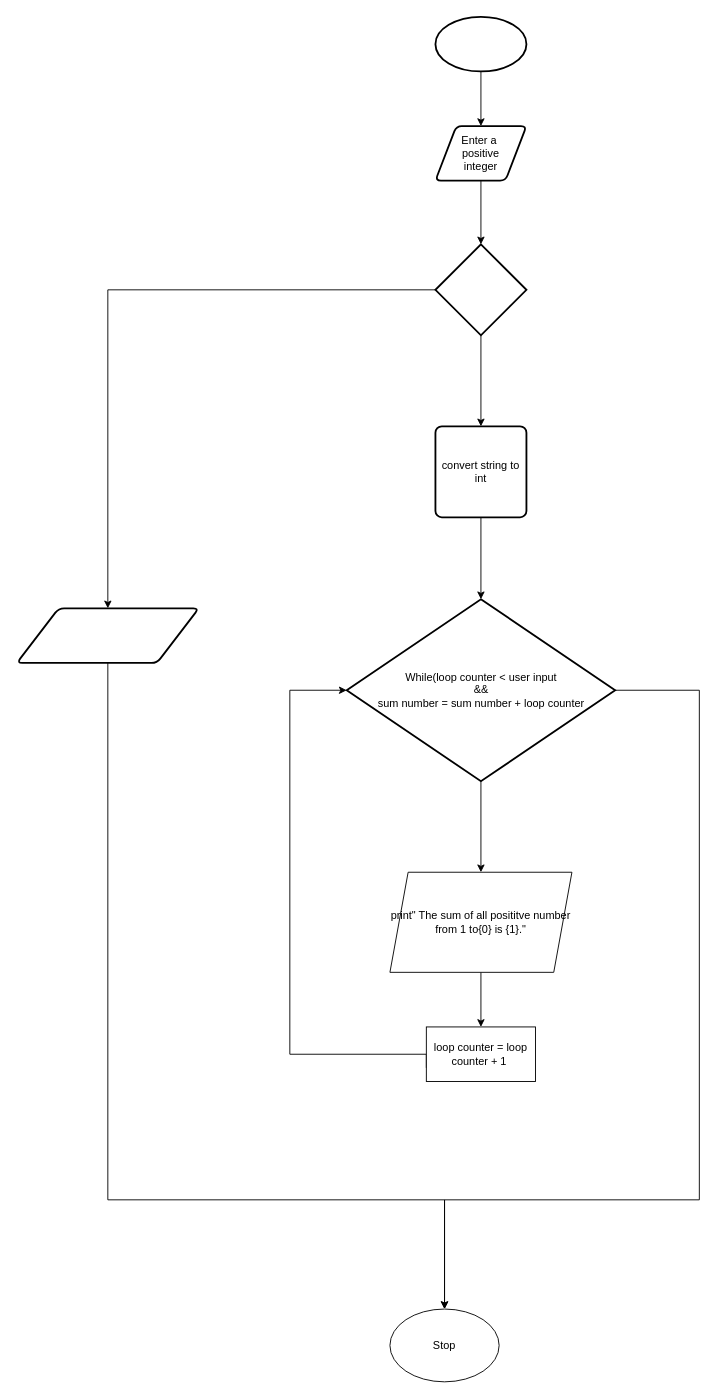
Image size: 723x1398. Some labels were removed from this diagram. Each missing label, with the centre of its shape:
print "this is not a number" print " please try again": (107,635)
Start: (480,43)
try: (480,289)
